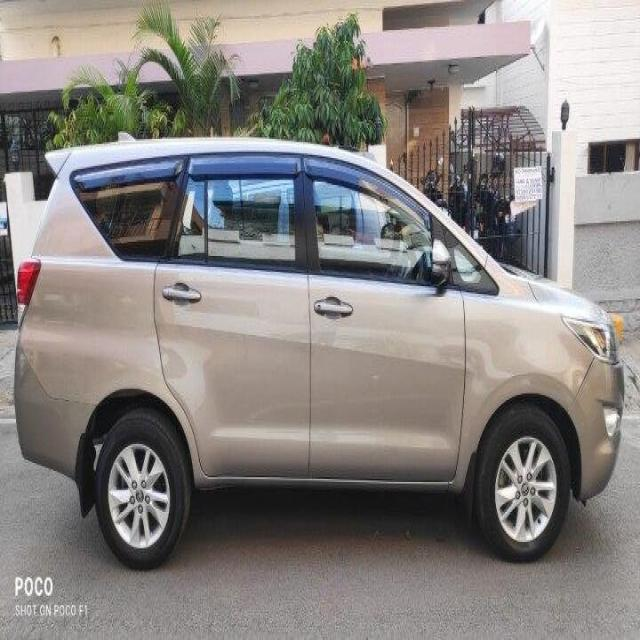light_vehicle: (12, 135, 626, 573)
